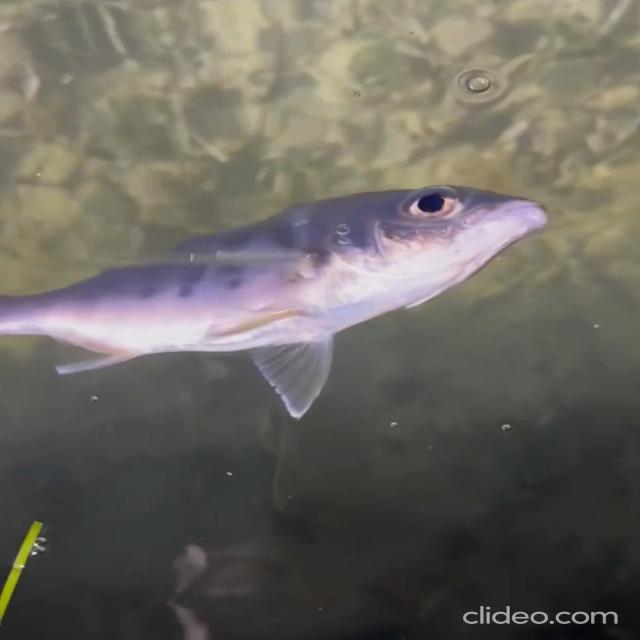fish: (3, 177, 562, 422)
